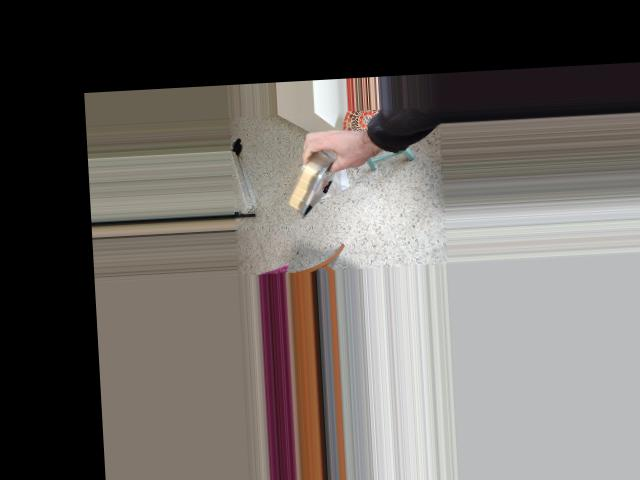cheese: (269, 117, 355, 222)
